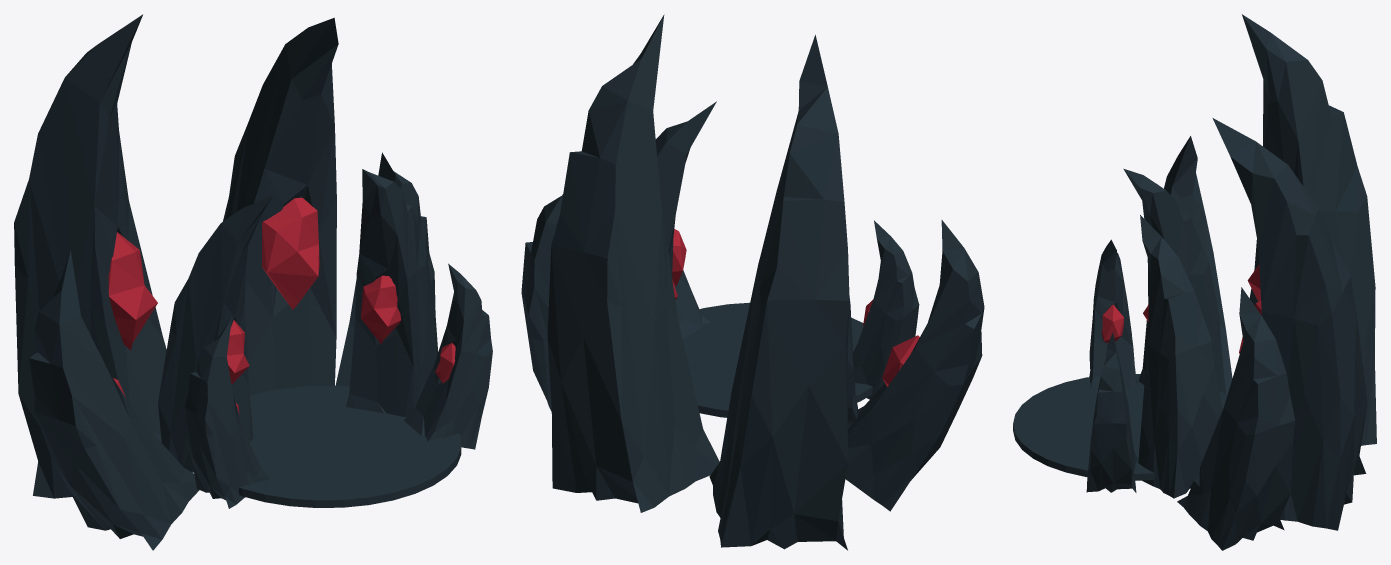
The model's file is portal.fbx.
3 views of the same model, side by side, from view 1: azimuth 30°, elevation 25°; view 2: azimuth 150°, elevation 25°; view 3: azimuth 270°, elevation 25° (orthographic). The views are drawn at different scales.
Parts seen in each view (by area): view 1: Cylinder.001; view 2: Cylinder.001; view 3: Cylinder.001.
Part boxes in pixels (x1,y1,x2,y2): Cylinder.001: [14, 14, 492, 550]; Cylinder.001: [521, 14, 984, 550]; Cylinder.001: [1013, 14, 1376, 550].
Size of the model in its own units: 2612 by 2802 by 2152.
